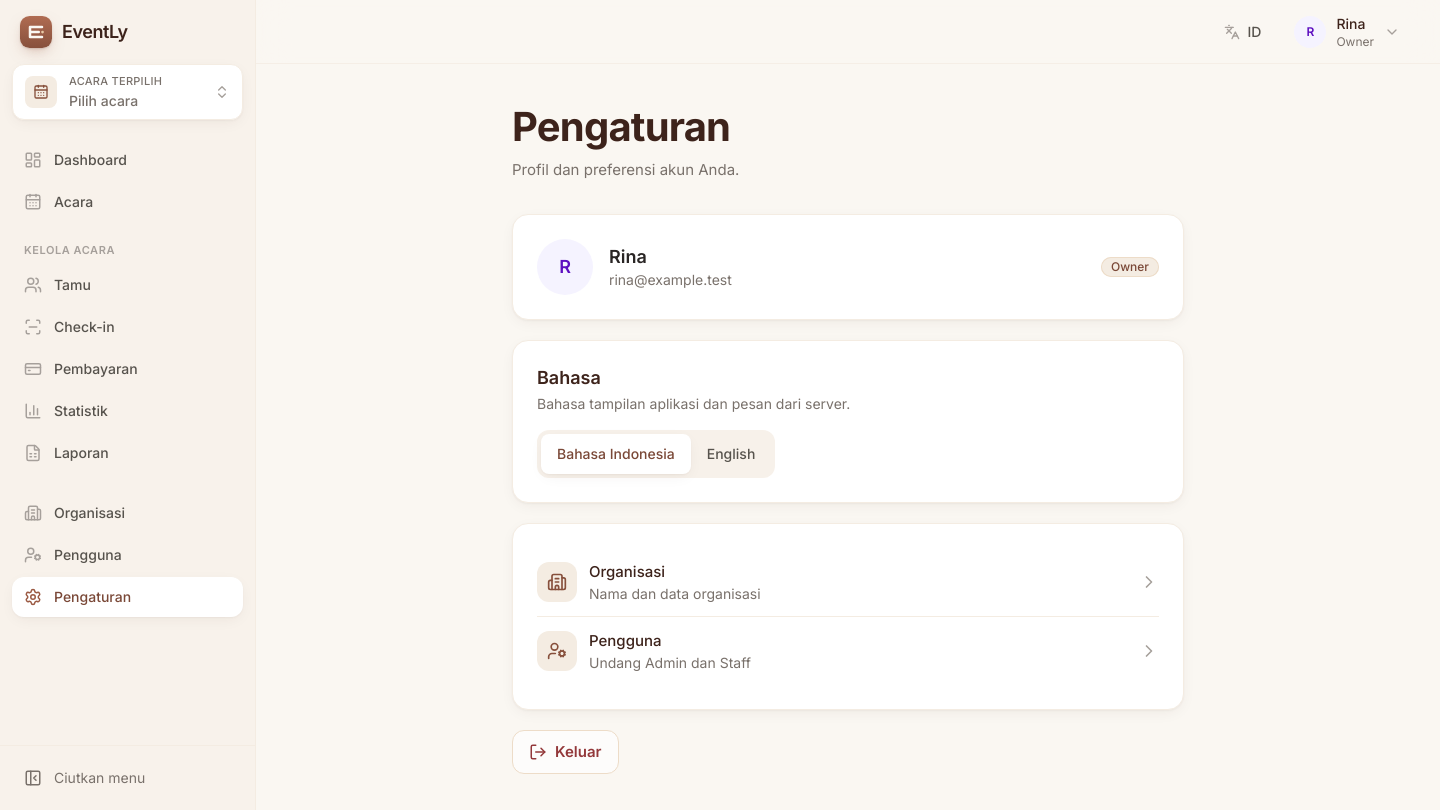
Test: organizer frame › asks which event when there is a real choice, then opens its page
Click the button "Tamu" at coordinates (128, 285), box x1=12 y1=265 x2=243 y2=305
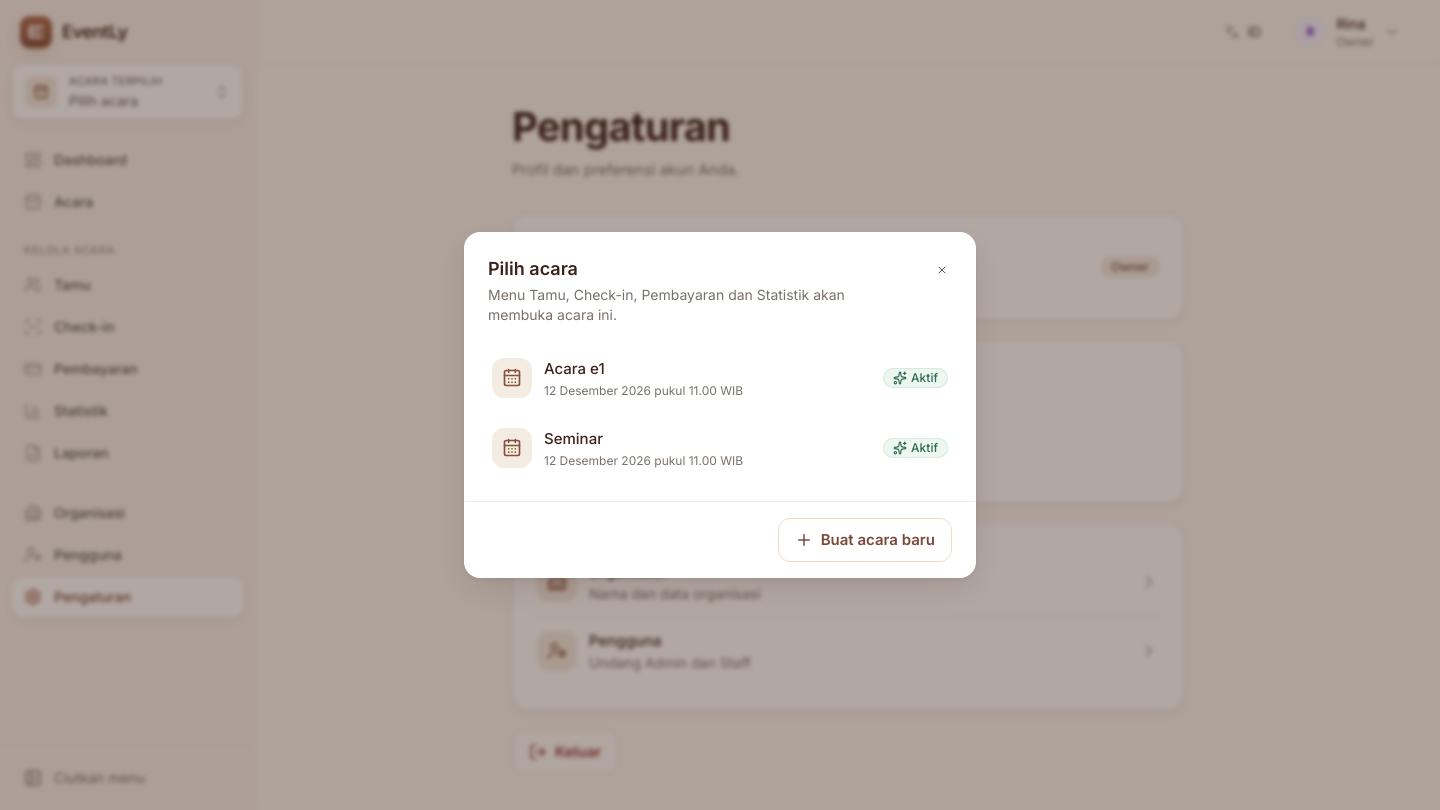
Click the button "Seminar 12 Desember 2026 pukul 11.00 WIB Aktif" at coordinates (512, 448), box x1=480 y1=415 x2=960 y2=481
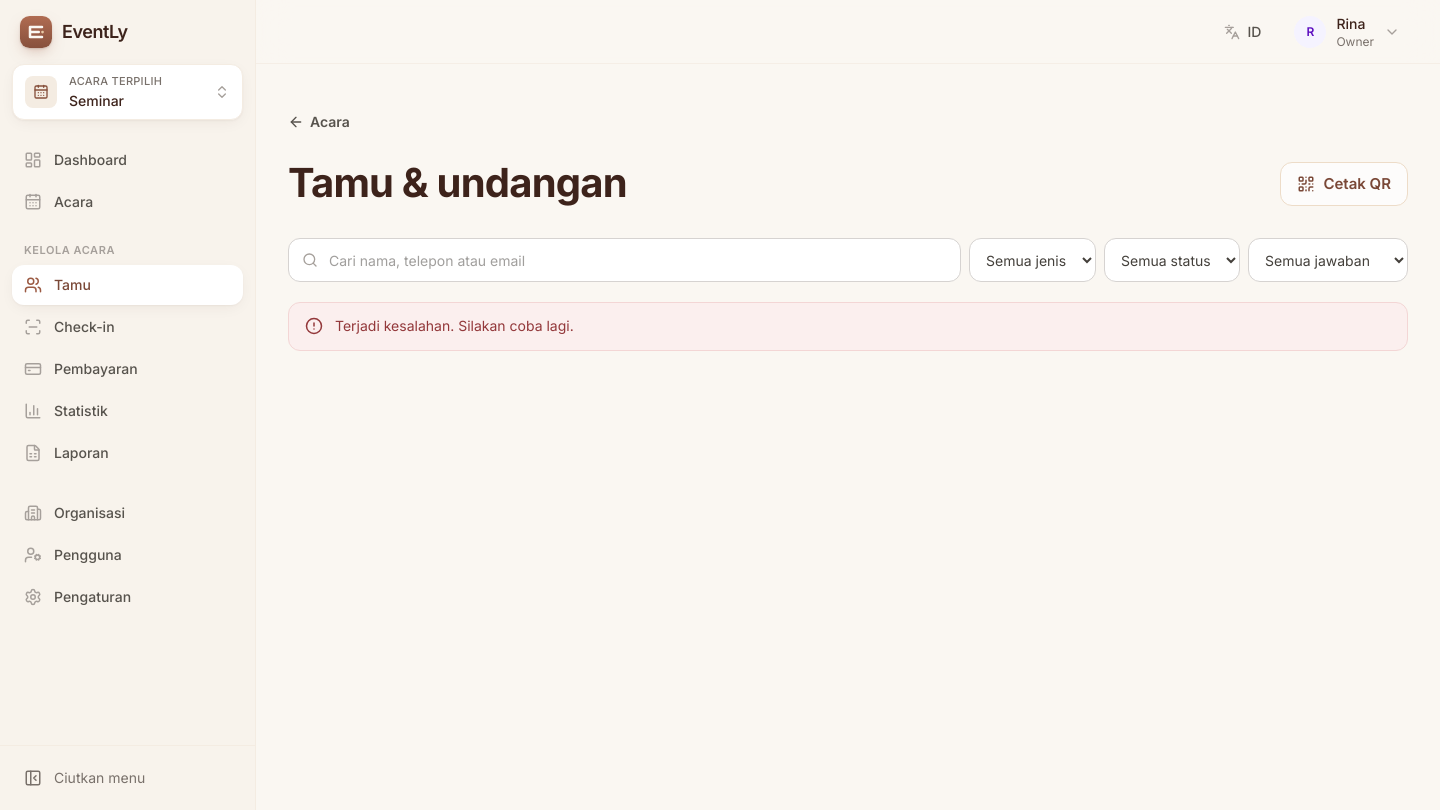
expect the dialog is gone: met
